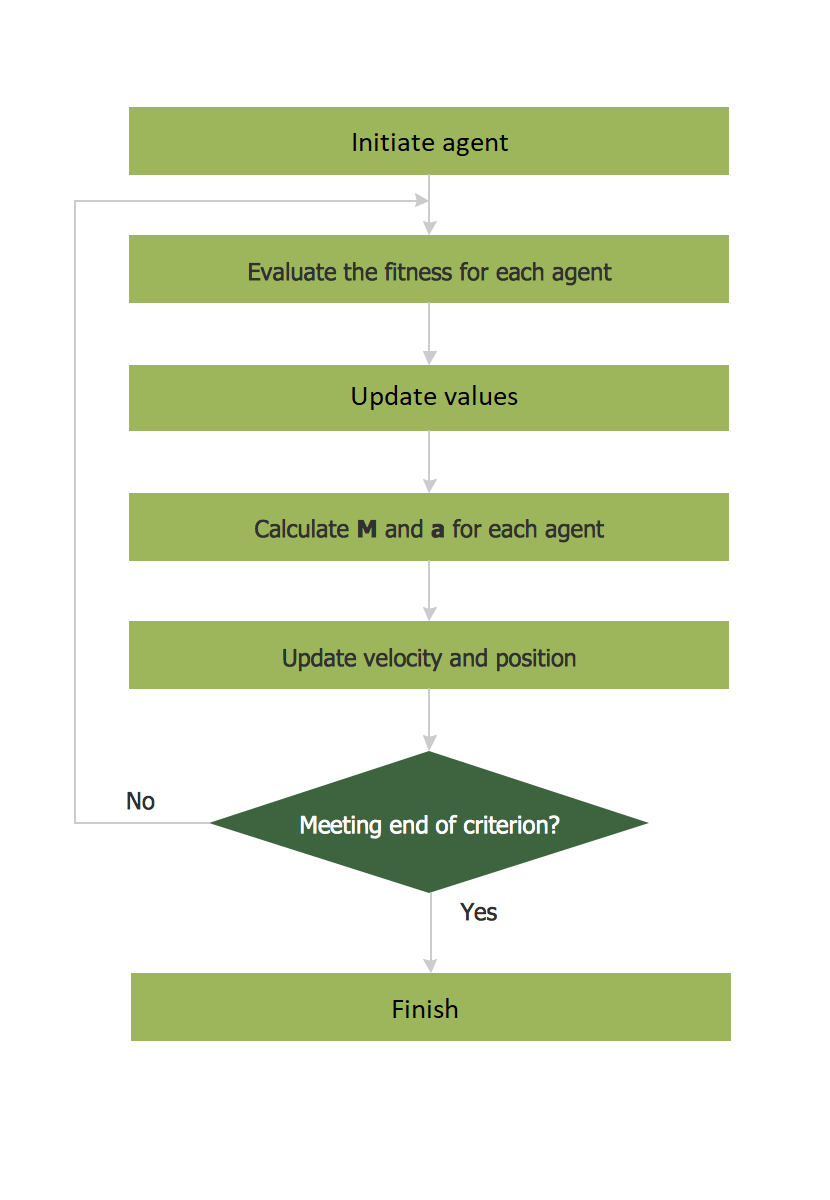arrow: (64, 193, 432, 827), (421, 883, 444, 971), (417, 305, 443, 365), (423, 422, 444, 493), (421, 560, 444, 618), (419, 173, 441, 233), (421, 691, 443, 749)
decision: (204, 749, 652, 896)
process: (124, 963, 739, 1045), (123, 487, 737, 567), (123, 227, 735, 307), (123, 358, 734, 438), (121, 102, 735, 180), (123, 616, 735, 694)
text: (244, 258, 614, 289), (250, 516, 604, 543), (277, 642, 584, 673), (295, 807, 566, 836), (348, 127, 514, 160), (350, 382, 521, 414), (388, 996, 463, 1022), (454, 893, 504, 927), (123, 789, 157, 816)
